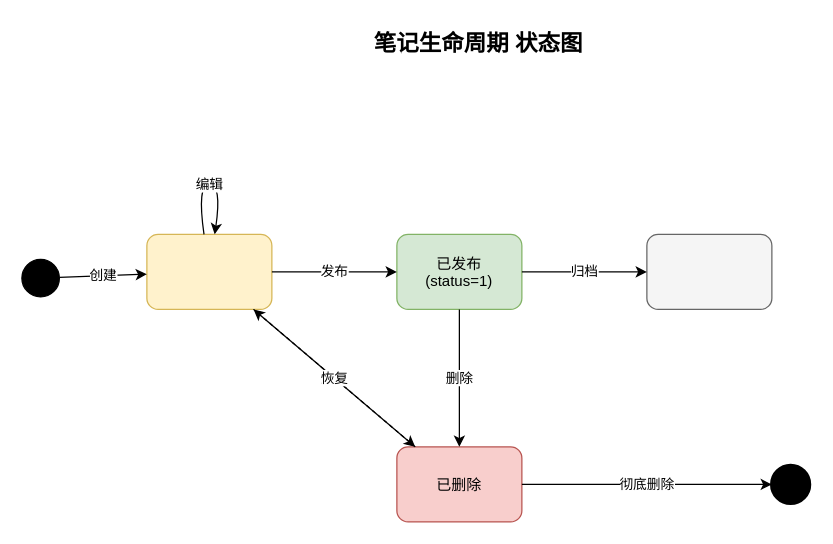
Image size: 833x544. Some labels were removed from this diagram. The centre of each missing label's shape, as x and y in pixels:
"已归档 (status=2)" belongs at point (709, 271).
"草稿 (status=0)" belongs at point (209, 271).
